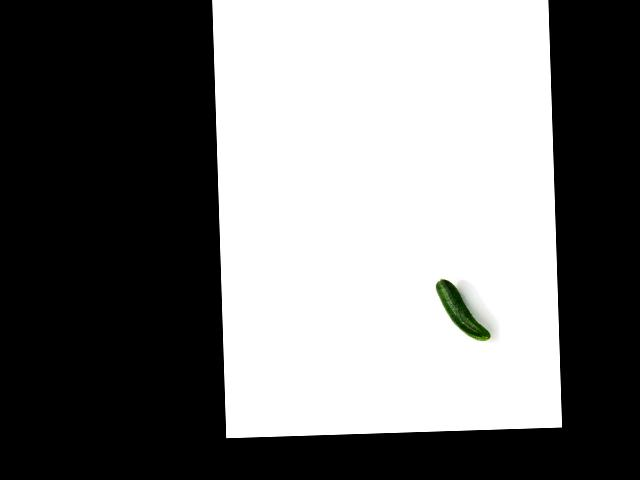cucumber: (436, 277, 491, 341)
